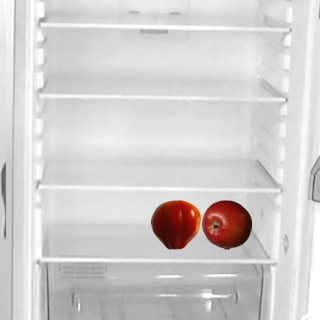Apple Braeburn: (201, 199, 251, 249)
Tomato 1: (150, 199, 200, 249)
